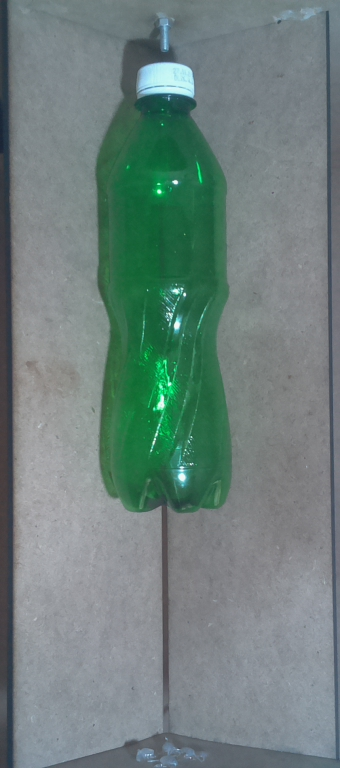Bouteille_0.5L: (93, 52, 244, 525)
